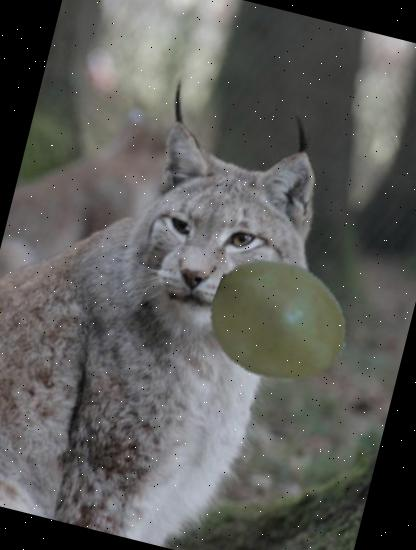Grape: (195, 237, 365, 407)
